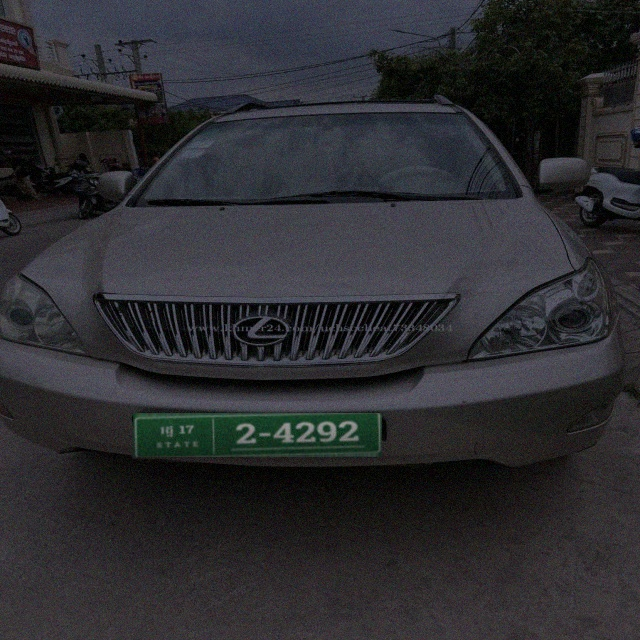Plate Number: (134, 414, 382, 457)
